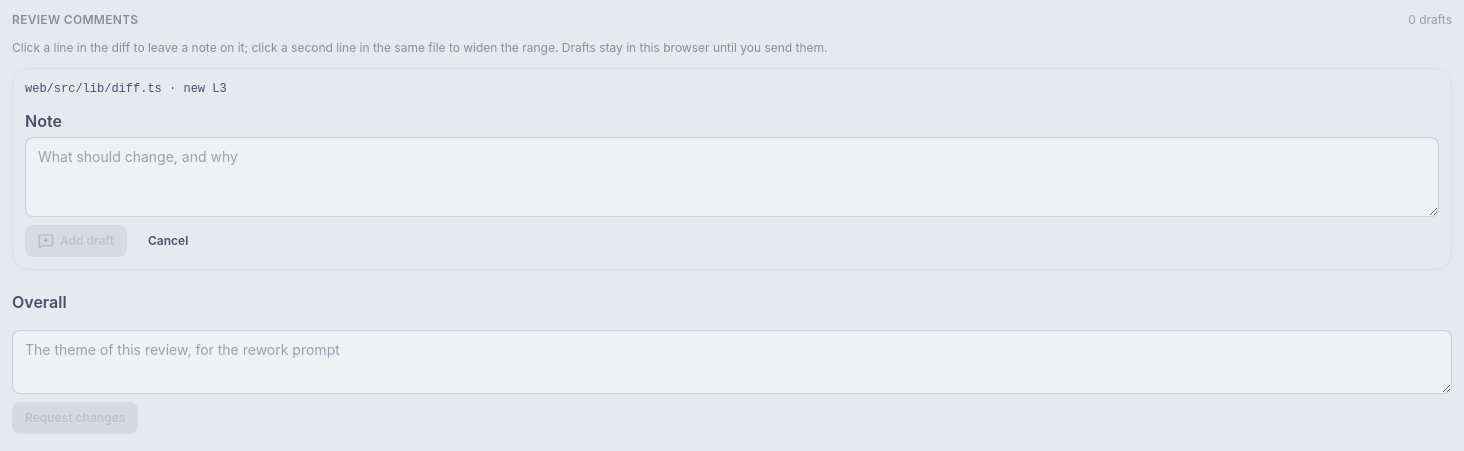
CommentThreads › drafts › deletes a draft by the line it is on, and the count follows
Type "Name this constant." into the text box labelled "Note" at [732, 177], box top-left (25, 137), bottom-right (1439, 217)
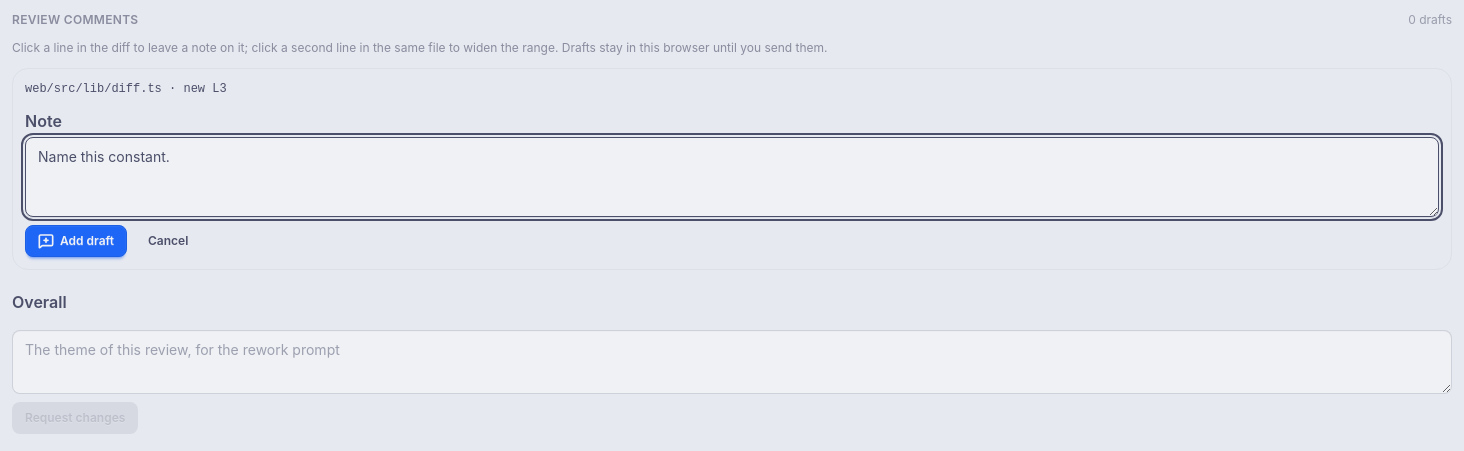
Click the button "Add draft" at [76, 241], box top-left (25, 225), bottom-right (127, 257)
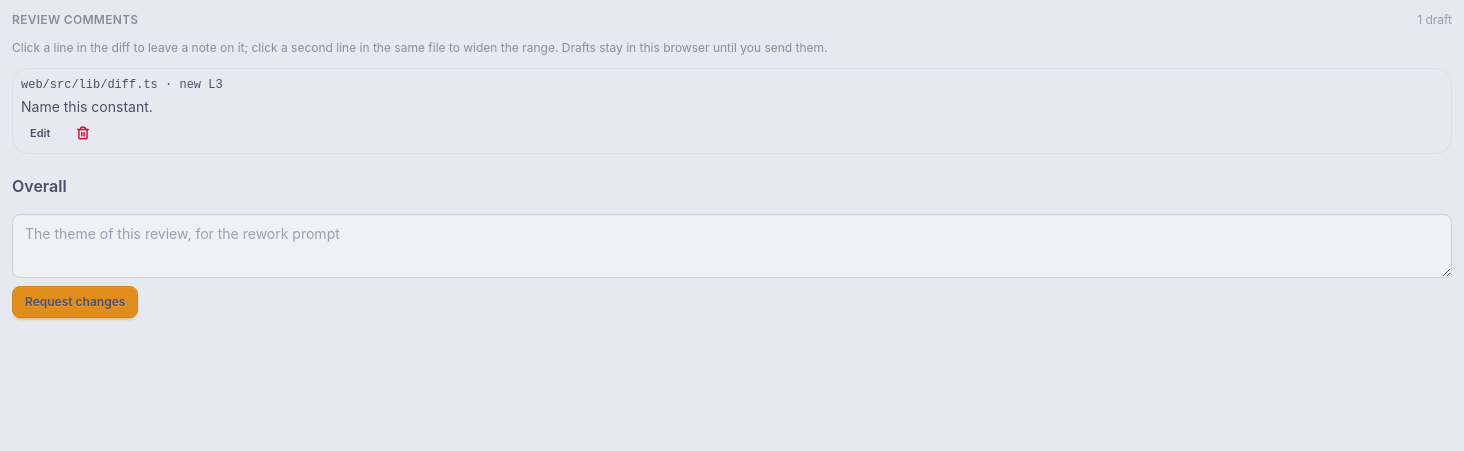
Click the button named "Delete comment on web/src/lib/diff.ts line 3" at [83, 133], box top-left (67, 121), bottom-right (99, 145)
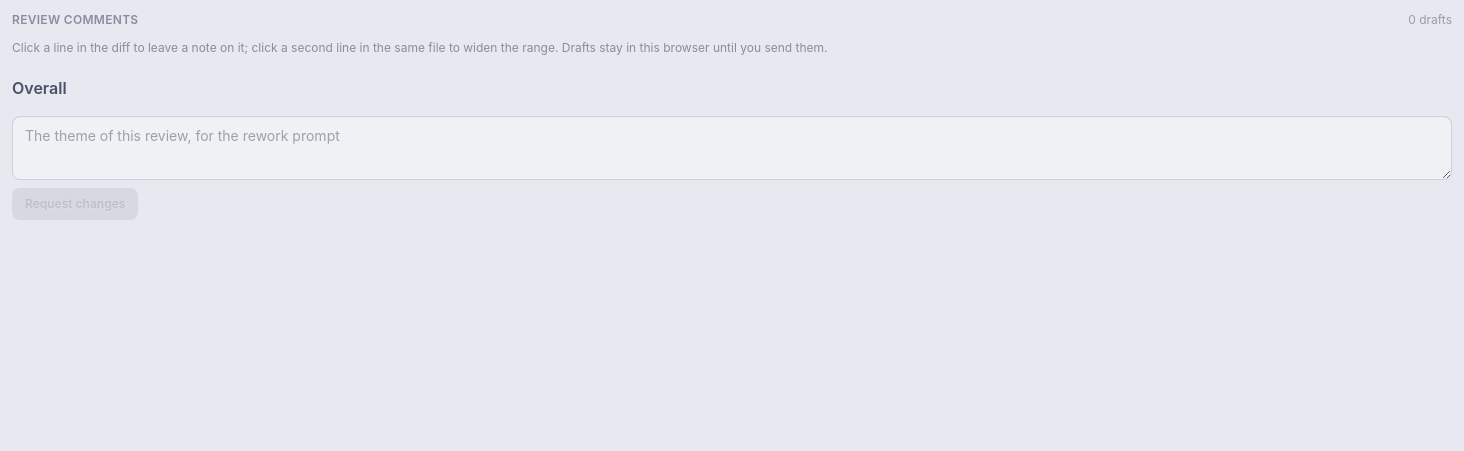
Check: the text "Name this constant." is gone
Check: the text "0 drafts" is shown, box top-left (1408, 12), bottom-right (1452, 28)
